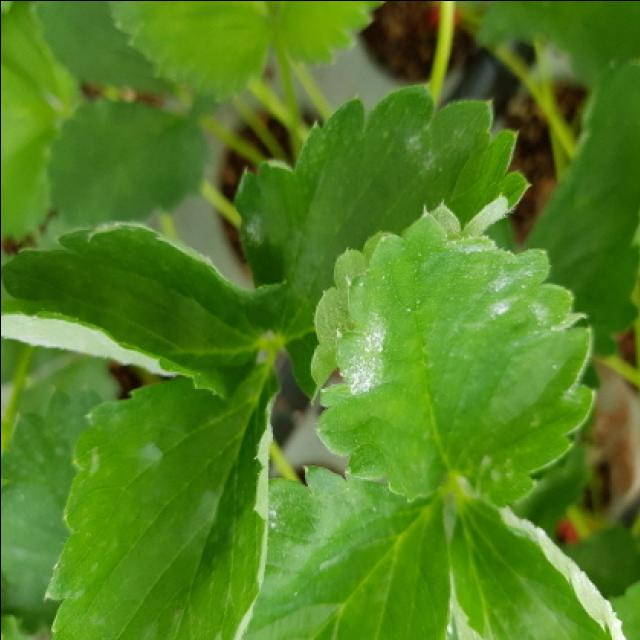Powdery Mildew Leaf: (232, 86, 533, 407), (311, 204, 596, 505), (42, 354, 283, 640), (2, 219, 287, 399), (238, 461, 453, 640), (449, 496, 629, 640)
